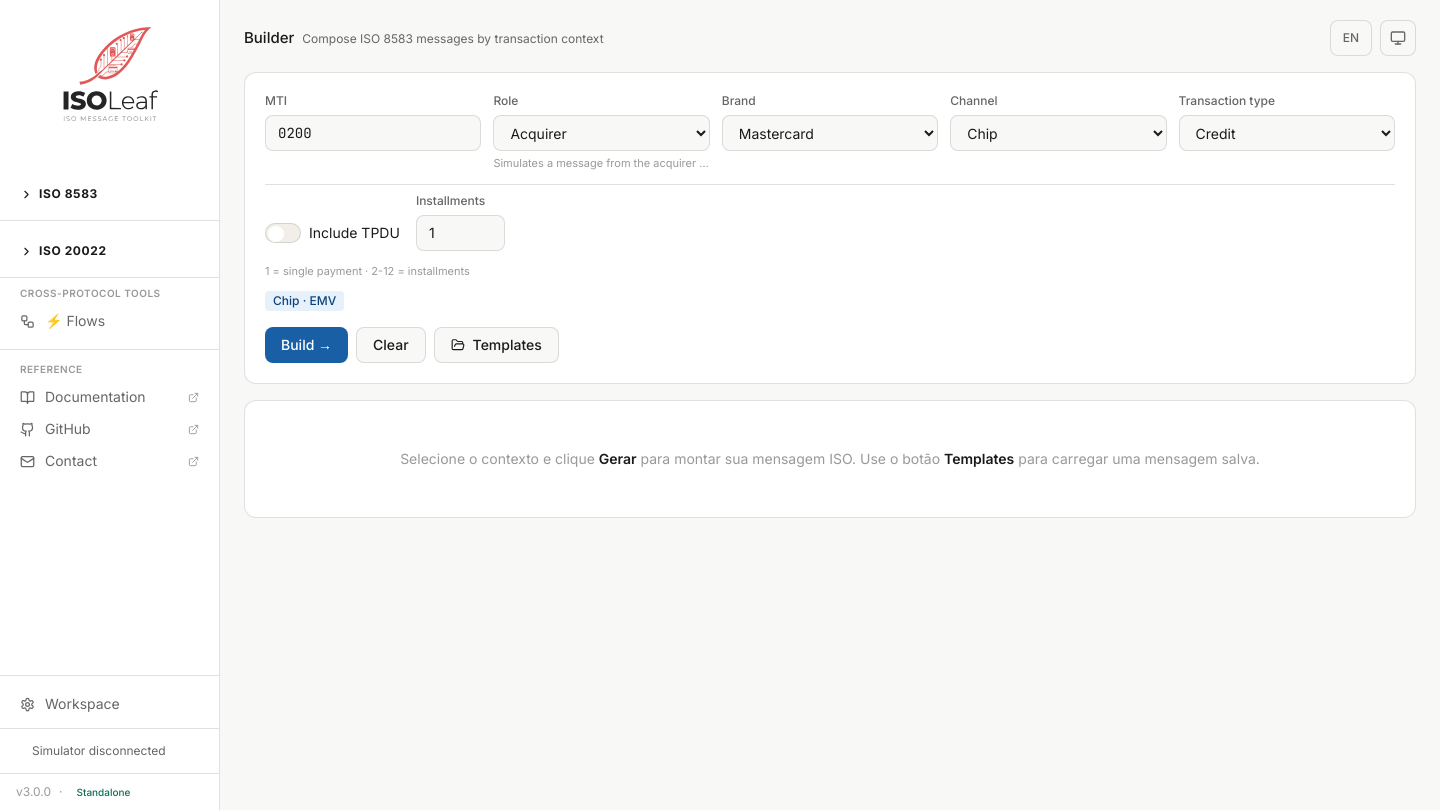
Test case: Builder page › after Build success the fields table appears and Mastercard labels render as 'DE n'
Click the button "Build →" at (307, 345), box [265,327,348,363]
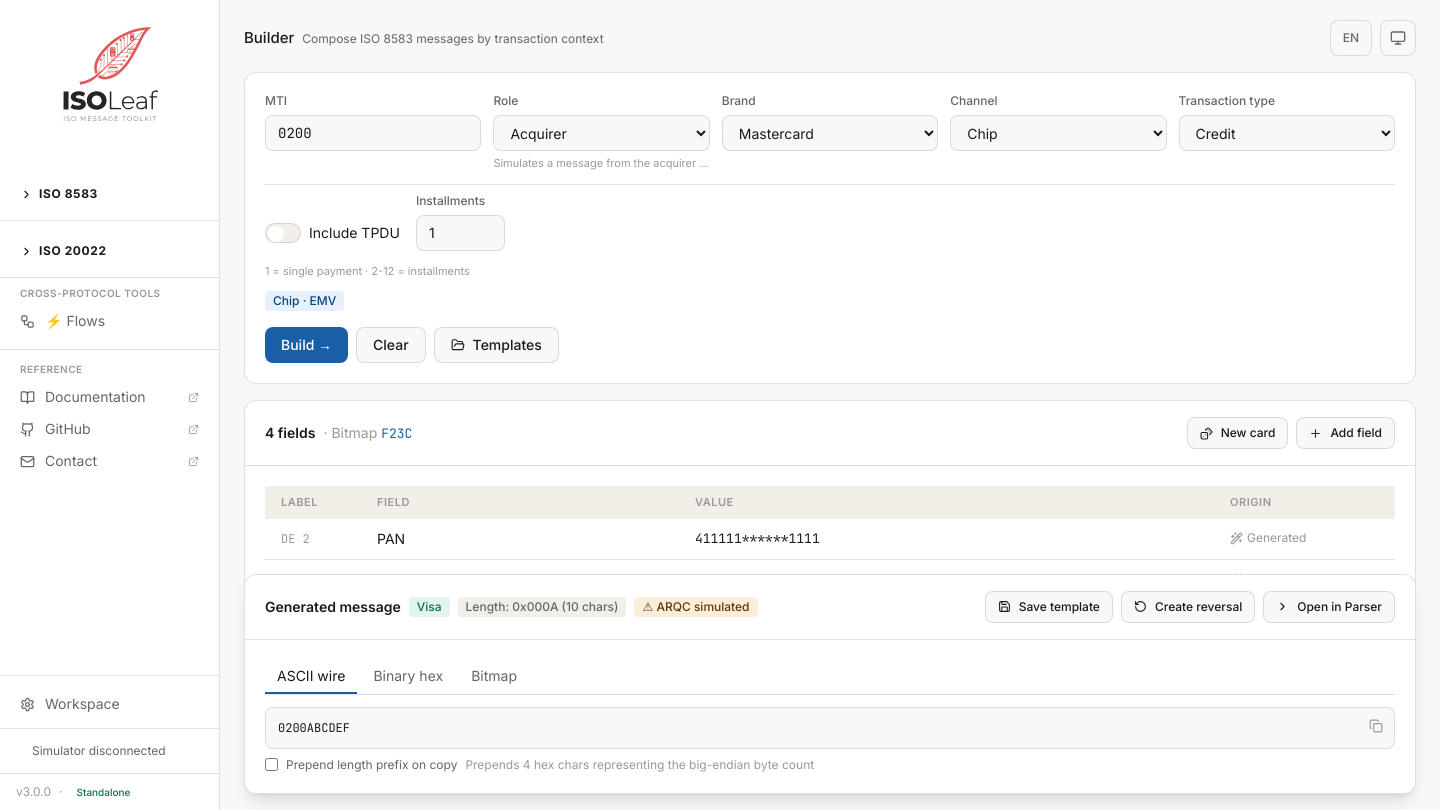
Expected: the text "DE 3" is shown, [265,559,361,600]
Now the text "PAN" is shown, box [361,518,679,559]
Now the text "DE 2" is shown, box [265,518,361,559]
